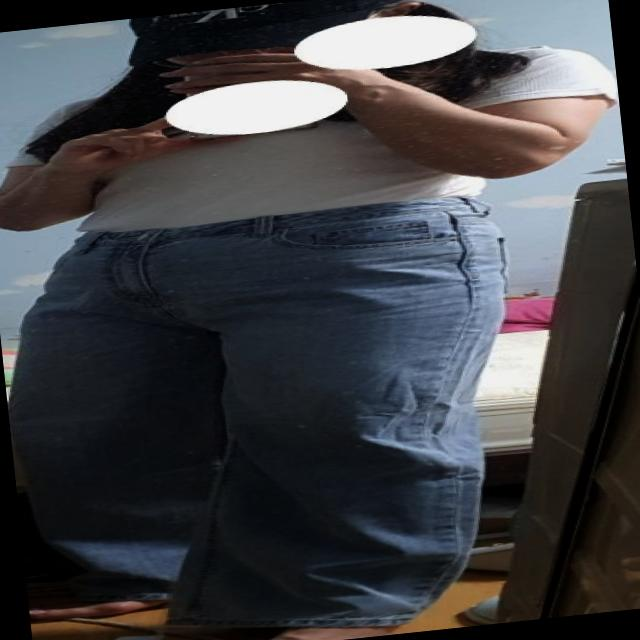denimpants: (0, 185, 529, 640)
shortsleeve: (1, 28, 622, 250)
